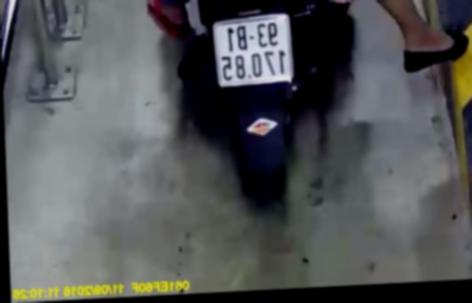License_Plate: (208, 10, 304, 95)
